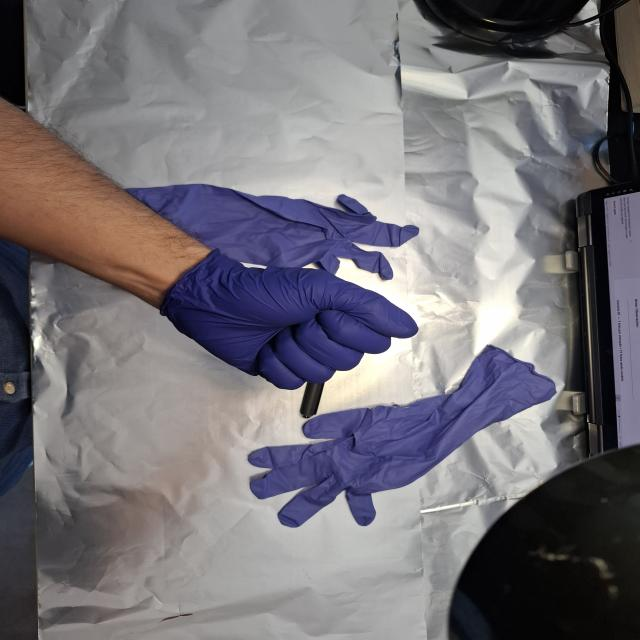glove_on: (159, 249, 420, 393)
